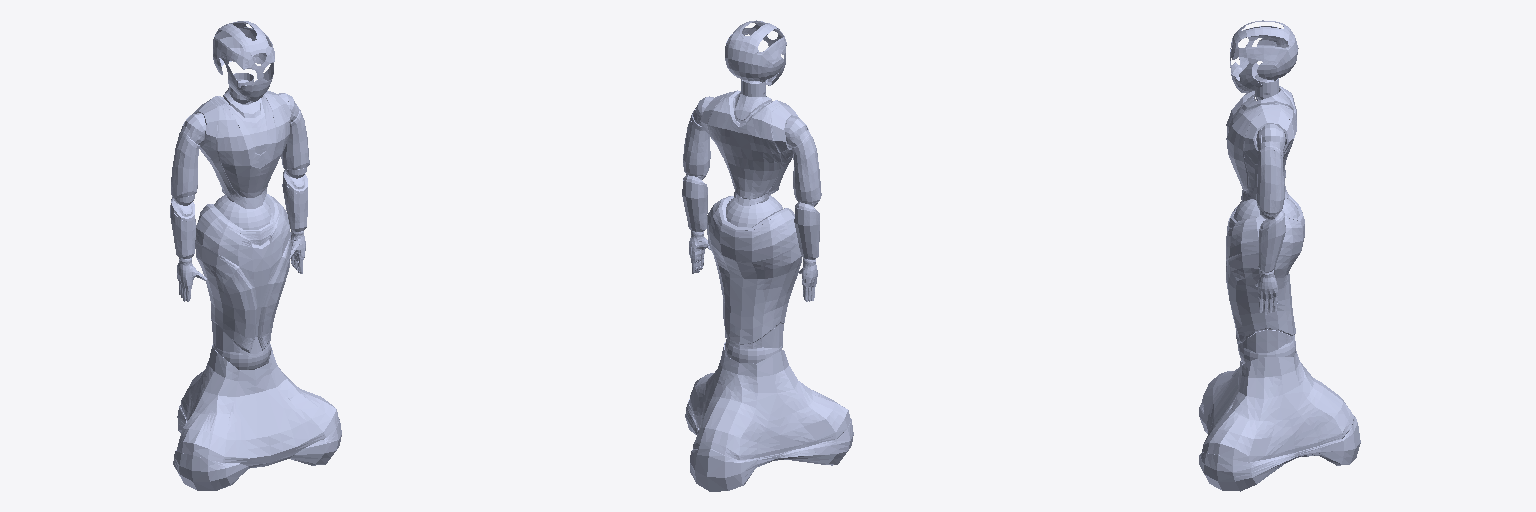
--- What the picture shows (computed from the rendered views, not written in the file) ---
3 views of the same robot in one strip: view 1: azimuth 30°, elevation 25°; view 2: azimuth 150°, elevation 25°; view 3: azimuth 270°, elevation 25° (orthographic).
Robot: xr1urdf — 51 links, 50 joints (49 continuous, 1 fixed); root link base_link; default pose: every joint at zero.
Links seen in each view (by area): view 1: base_link, Leg_Link, Back_Link, Head_Link, Right_Arm_Link, Right_Foream_Link, Left_Forearm_Link, Left_Arm_Link, Thigh_Link2, Knee_Link; view 2: base_link, Leg_Link, Back_Link, Head_Link, Right_Arm_Link, Left_Arm_Link, Left_Forearm_Link, Right_Foream_Link, Thigh_Link2, Knee_Link; view 3: base_link, Leg_Link, Back_Link, Head_Link, Left_Arm_Link, Left_Forearm_Link, Knee_Link, Thigh_Link2.
Link boxes in pixels (x1=…): base_link: x1=173, y1=342, x2=341, y2=490; Leg_Link: x1=195, y1=194, x2=291, y2=353; Back_Link: x1=192, y1=88, x2=291, y2=208; Head_Link: x1=213, y1=21, x2=274, y2=101; Right_Arm_Link: x1=171, y1=115, x2=205, y2=197; Right_Foream_Link: x1=170, y1=195, x2=195, y2=258; Left_Forearm_Link: x1=282, y1=168, x2=307, y2=231; Left_Arm_Link: x1=281, y1=101, x2=309, y2=169; Thigh_Link2: x1=214, y1=195, x2=271, y2=229; Knee_Link: x1=212, y1=322, x2=270, y2=356; base_link: x1=685, y1=339, x2=853, y2=491; Leg_Link: x1=707, y1=196, x2=801, y2=344; Back_Link: x1=700, y1=90, x2=798, y2=205; Head_Link: x1=725, y1=20, x2=786, y2=85; Right_Arm_Link: x1=785, y1=124, x2=821, y2=203; Left_Arm_Link: x1=683, y1=104, x2=710, y2=176; Left_Forearm_Link: x1=682, y1=173, x2=707, y2=231; Right_Foream_Link: x1=794, y1=201, x2=819, y2=258; Thigh_Link2: x1=726, y1=195, x2=782, y2=226; Knee_Link: x1=725, y1=324, x2=783, y2=348; base_link: x1=1199, y1=329, x2=1360, y2=491; Leg_Link: x1=1226, y1=195, x2=1304, y2=343; Back_Link: x1=1226, y1=86, x2=1296, y2=201; Head_Link: x1=1230, y1=20, x2=1298, y2=92; Left_Arm_Link: x1=1256, y1=128, x2=1285, y2=214; Left_Forearm_Link: x1=1258, y1=210, x2=1285, y2=272; Knee_Link: x1=1238, y1=330, x2=1294, y2=352; Thigh_Link2: x1=1234, y1=198, x2=1298, y2=221.
Bounding box of the posed robot: 0.5765 × 0.5061 × 1.5 m (x, y, z).
Meshes: 51 distinct files referenced, 51 mesh visuals loaded (51 binary STL).

URDF robot description (xr1urdf):
<robot
  name="xr1urdf">
  <link
    name="base_link">
    <inertial>
      <origin
        xyz="3.7967E-06 -0.014178 0.36294"
        rpy="0 0 0" />
      <mass
        value="36.19" />
      <inertia
        ixx="0.2837"
        ixy="6.6528E-07"
        ixz="1.7113E-06"
        iyy="0.2837"
        iyz="-9.4304E-05"
        izz="0.4608" />
    </inertial>
    <visual>
      <origin
        xyz="0 0 0"
        rpy="0 0 0" />
      <geometry>
        <mesh
          filename="package://xr1urdf/meshes/base_link.STL" />
      </geometry>
      <material
        name="">
        <color
          rgba="0.79216 0.81961 0.93333 1" />
      </material>
    </visual>
    <collision>
      <origin
        xyz="0 0 0"
        rpy="0 0 0" />
      <geometry>
        <mesh
          filename="package://xr1urdf/meshes/base_link.STL" />
      </geometry>
    </collision>
  </link>
  <link
    name="Knee_Link">
    <inertial>
      <origin
        xyz="-0.0018369 -0.052916 -5.4938E-05"
        rpy="0 0 0" />
      <mass
        value="8.175" />
      <inertia
        ixx="0.09013"
        ixy="7.826E-06"
        ixz="-7.279E-06"
        iyy="0.1181"
        iyz="6.324E-05"
        izz="0.118" />
    </inertial>
    <visual>
      <origin
        xyz="0 0 0"
        rpy="0 0 0" />
      <geometry>
        <mesh
          filename="package://xr1urdf/meshes/Knee_Link.STL" />
      </geometry>
      <material
        name="">
        <color
          rgba="0.79216 0.81961 0.93333 1" />
      </material>
    </visual>
    <collision>
      <origin
        xyz="0 0 0"
        rpy="0 0 0" />
      <geometry>
        <mesh
          filename="package://xr1urdf/meshes/Knee_Link.STL" />
      </geometry>
    </collision>
  </link>
  <joint
    name="Knee_X"
    type="continuous">
    <origin
      xyz="5.4938E-05 -0.013143 0.40405"
      rpy="-1.5708 0.033734 -1.5708" />
    <parent
      link="base_link" />
    <child
      link="Knee_Link" />
    <axis
      xyz="0 0 1" />
    <dynamics
      friction="0.1" />
  </joint>
  <link
    name="Leg_Link">
    <inertial>
      <origin
        xyz="0.0043847 -0.29449 -8.7888E-05"
        rpy="0 0 0" />
      <mass
        value="0.32293" />
      <inertia
        ixx="0.00058566"
        ixy="-2.0496E-05"
        ixz="3.9125E-09"
        iyy="7.173E-07"
        iyz="1.118E-07"
        izz="0.00058637" />
    </inertial>
    <visual>
      <origin
        xyz="0 0 0"
        rpy="0 0 0" />
      <geometry>
        <mesh
          filename="package://xr1urdf/meshes/Leg_Link.STL" />
      </geometry>
      <material
        name="">
        <color
          rgba="0.79216 0.81961 0.93333 1" />
      </material>
    </visual>
    <collision>
      <origin
        xyz="0 0 0"
        rpy="0 0 0" />
      <geometry>
        <mesh
          filename="package://xr1urdf/meshes/Leg_Link.STL" />
      </geometry>
    </collision>
  </link>
  <joint
    name="Leg_D"
    type="fixed">
    <origin
      xyz="0 0 0"
      rpy="0 0 6.9389E-18" />
    <parent
      link="Knee_Link" />
    <child
      link="Leg_Link" />
    <axis
      xyz="0 0 0" />
    <dynamics
      friction="0.1" />
  </joint>
  <link
    name="Thigh_Link">
    <inertial>
      <origin
        xyz="-0.013604 -0.00011257 0.42407"
        rpy="0 0 0" />
      <mass
        value="0.8847" />
      <inertia
        ixx="0.1604"
        ixy="0"
        ixz="0"
        iyy="0.1604"
        iyz="0"
        izz="0.1024" />
    </inertial>
    <visual>
      <origin
        xyz="0 0 0"
        rpy="0 0 0" />
      <geometry>
        <mesh
          filename="package://xr1urdf/meshes/Thigh_Link.STL" />
      </geometry>
      <material
        name="">
        <color
          rgba="0.79216 0.81961 0.93333 1" />
      </material>
    </visual>
    <collision>
      <origin
        xyz="0 0 0"
        rpy="0 0 0" />
      <geometry>
        <mesh
          filename="package://xr1urdf/meshes/Thigh_Link.STL" />
      </geometry>
    </collision>
  </link>
  <joint
    name="Back_Z"
    type="continuous">
    <origin
      xyz="0 0 0"
      rpy="1.5707 0 -0.0012161" />
    <parent
      link="Leg_Link" />
    <child
      link="Thigh_Link" />
    <axis
      xyz="-0.032512 -0.00013583 0.99947" />
    <dynamics
      friction="0.1" />
  </joint>
  <link
    name="Thigh_Link2">
    <inertial>
      <origin
        xyz="1.3517E-08 -1.7091E-08 -5.4937E-05"
        rpy="0 0 0" />
      <mass
        value="0.6035" />
      <inertia
        ixx="0.1537"
        ixy="0"
        ixz="0"
        iyy="0.1537"
        iyz="0"
        izz="0.0968" />
    </inertial>
    <visual>
      <origin
        xyz="0 0 0"
        rpy="0 0 0" />
      <geometry>
        <mesh
          filename="package://xr1urdf/meshes/Thigh_Link2.STL" />
      </geometry>
      <material
        name="">
        <color
          rgba="0.79216 0.81961 0.93333 1" />
      </material>
    </visual>
    <collision>
      <origin
        xyz="0 0 0"
        rpy="0 0 0" />
      <geometry>
        <mesh
          filename="package://xr1urdf/meshes/Thigh_Link2.STL" />
      </geometry>
    </collision>
  </link>
  <joint
    name="Back_X"
    type="continuous">
    <origin
      xyz="-0.013604 -5.763E-05 0.42407"
      rpy="-1.5707 -0.032068 -4.3595E-06" />
    <parent
      link="Thigh_Link" />
    <child
      link="Thigh_Link2" />
    <axis
      xyz="0 0 1" />
    <dynamics
      friction="0.1" />
  </joint>
  <link
    name="Back_Link">
    <inertial>
      <origin
        xyz="0.064471 3.1609E-05 0.017862"
        rpy="0 0 0" />
      <mass
        value="13.87" />
      <inertia
        ixx="0.09994"
        ixy="8.3465E-08"
        ixz="-0.00048977"
        iyy="0.1191"
        iyz="1.3363E-07"
        izz="0.1071" />
    </inertial>
    <visual>
      <origin
        xyz="0 0 0"
        rpy="0 0 0" />
      <geometry>
        <mesh
          filename="package://xr1urdf/meshes/Back_Link.STL" />
      </geometry>
      <material
        name="">
        <color
          rgba="0.79216 0.81961 0.93333 1" />
      </material>
    </visual>
    <collision>
      <origin
        xyz="0 0 0"
        rpy="0 0 0" />
      <geometry>
        <mesh
          filename="package://xr1urdf/meshes/Back_Link.STL" />
      </geometry>
    </collision>
  </link>
  <joint
    name="Back_Y"
    type="continuous">
    <origin
      xyz="-0.013865 -0.10565 -2.6926E-05"
      rpy="-1.5708 0 -1.5712" />
    <parent
      link="Thigh_Link2" />
    <child
      link="Back_Link" />
    <axis
      xyz="0 0 1" />
    <dynamics
      friction="0.1" />
  </joint>
  <link
    name="Neck_Link">
    <inertial>
      <origin
        xyz="-0.00011159 0.026435 0.35317"
        rpy="0 0 0" />
      <mass
        value="0.6805" />
      <inertia
        ixx="0.0009499"
        ixy="0"
        ixz="0"
        iyy="0.0009499"
        iyz="0"
        izz="0.000722" />
    </inertial>
    <visual>
      <origin
        xyz="0 0 0"
        rpy="0 0 0" />
      <geometry>
        <mesh
          filename="package://xr1urdf/meshes/Neck_Link.STL" />
      </geometry>
      <material
        name="">
        <color
          rgba="0.79216 0.81961 0.93333 1" />
      </material>
    </visual>
    <collision>
      <origin
        xyz="0 0 0"
        rpy="0 0 0" />
      <geometry>
        <mesh
          filename="package://xr1urdf/meshes/Neck_Link.STL" />
      </geometry>
    </collision>
  </link>
  <joint
    name="Neck_Z"
    type="continuous">
    <origin
      xyz="0 0 0"
      rpy="-1.45576756643559 0.00585422888906165 -1.5707963267949" />
    <parent
      link="Back_Link" />
    <child
      link="Neck_Link" />
    <axis
      xyz="-6.48829923723553E-05 0.103758479857577 0.994602520431073" />
  </joint>
  <link
    name="Neck_Link2">
    <inertial>
      <origin
        xyz="-0.00017003 -0.015117 -5.4883E-05"
        rpy="0 0 0" />
      <mass
        value="0.4417" />
      <inertia
        ixx="0.0003943"
        ixy="0"
        ixz="0"
        iyy="0.0003943"
        iyz="0"
        izz="0.000338" />
    </inertial>
    <visual>
      <origin
        xyz="0 0 0"
        rpy="0 0 0" />
      <geometry>
        <mesh
          filename="package://xr1urdf/meshes/Neck_Link2.STL" />
      </geometry>
      <material
        name="">
        <color
          rgba="0.79216 0.81961 0.93333 1" />
      </material>
    </visual>
    <collision>
      <origin
        xyz="0 0 0"
        rpy="0 0 0" />
      <geometry>
        <mesh
          filename="package://xr1urdf/meshes/Neck_Link2.STL" />
      </geometry>
    </collision>
  </link>
  <joint
    name="Neck_X"
    type="continuous">
    <origin
      xyz="-5.66462826414854E-05 0.0264756614309742 0.353526594203303"
      rpy="-1.570120763762 -0.103943394823006 -1.57668196274022" />
    <parent
      link="Neck_Link" />
    <child
      link="Neck_Link2" />
    <axis
      xyz="0 0 1" />
  </joint>
  <link
    name="Head_Link">
    <inertial>
      <origin
        xyz="0.078614 2.5049E-06 0.024556"
        rpy="0 0 0" />
      <mass
        value="1.661" />
      <inertia
        ixx="0.01505"
        ixy="0"
        ixz="0"
        iyy="0.01505"
        iyz="0"
        izz="0.01212" />
    </inertial>
    <visual>
      <origin
        xyz="0 0 0"
        rpy="0 0 0" />
      <geometry>
        <mesh
          filename="package://xr1urdf/meshes/Head_Link.STL" />
      </geometry>
      <material
        name="">
        <color
          rgba="0.79216 0.81961 0.93333 1" />
      </material>
    </visual>
    <collision>
      <origin
        xyz="0 0 0"
        rpy="0 0 0" />
      <geometry>
        <mesh
          filename="package://xr1urdf/meshes/Head_Link.STL" />
      </geometry>
    </collision>
  </link>
  <joint
    name="Head_Y"
    type="continuous">
    <origin
      xyz="-0.0148356484587829 -0.0504585752470172 0"
      rpy="-1.5707963267949 0 -1.58187971499664" />
    <parent
      link="Neck_Link2" />
    <child
      link="Head_Link" />
    <axis
      xyz="0 0 1" />
  </joint>
  <link
    name="Left_Shoulder_Link">
    <inertial>
      <origin
        xyz="-4.1264E-05 -0.00075572 -0.00067551"
        rpy="0 0 0" />
      <mass
        value="0.8107" />
      <inertia
        ixx="0.08447"
        ixy="0"
        ixz="0"
        iyy="0.08447"
        iyz="0"
        izz="0.06554" />
    </inertial>
    <visual>
      <origin
        xyz="0 0 0"
        rpy="0 0 0" />
      <geometry>
        <mesh
          filename="package://xr1urdf/meshes/Left_Shoulder_Link.STL" />
      </geometry>
      <material
        name="">
        <color
          rgba="0.79216 0.81961 0.93333 1" />
      </material>
    </visual>
    <collision>
      <origin
        xyz="0 0 0"
        rpy="0 0 0" />
      <geometry>
        <mesh
          filename="package://xr1urdf/meshes/Left_Shoulder_Link.STL" />
      </geometry>
    </collision>
  </link>
  <joint
    name="Left_Shoulder_X"
    type="continuous">
    <origin
      xyz="0.25847 -0.15106 0.001585"
      rpy="1.5708 -1.5708 0" />
    <parent
      link="Back_Link" />
    <child
      link="Left_Shoulder_Link" />
    <axis
      xyz="0 0 1" />
    <dynamics
      friction="0.1" />
  </joint>
  <link
    name="Left_Arm_Link">
    <inertial>
      <origin
        xyz="0.10178 0.03894 0.00067822"
        rpy="0 0 0" />
      <mass
        value="1.022" />
      <inertia
        ixx="0.05869"
        ixy="-5.2828E-05"
        ixz="-4.5659E-06"
        iyy="0.05866"
        iyz="-9.0249E-07"
        izz="0.01331" />
    </inertial>
    <visual>
      <origin
        xyz="0 0 0"
        rpy="0 0 0" />
      <geometry>
        <mesh
          filename="package://xr1urdf/meshes/Left_Arm_Link.STL" />
      </geometry>
      <material
        name="">
        <color
          rgba="0.79216 0.81961 0.93333 1" />
      </material>
    </visual>
    <collision>
      <origin
        xyz="0 0 0"
        rpy="0 0 0" />
      <geometry>
        <mesh
          filename="package://xr1urdf/meshes/Left_Arm_Link.STL" />
      </geometry>
    </collision>
  </link>
  <joint
    name="Left_Shoulder_Y"
    type="continuous">
    <origin
      xyz="0 0 0"
      rpy="1.5708 0 1.5708" />
    <parent
      link="Left_Shoulder_Link" />
    <child
      link="Left_Arm_Link" />
    <axis
      xyz="0 0 1" />
    <dynamics
      friction="0.1" />
  </joint>
  <link
    name="Left_Elbow_Link">
    <inertial>
      <origin
        xyz="7.2184E-05 5.6121E-05 -0.21867"
        rpy="0 0 0" />
      <mass
        value="0.7854" />
      <inertia
        ixx="0.02333"
        ixy="0"
        ixz="0"
        iyy="0.02333"
        iyz="0"
        izz="0.02" />
    </inertial>
    <visual>
      <origin
        xyz="0 0 0"
        rpy="0 0 0" />
      <geometry>
        <mesh
          filename="package://xr1urdf/meshes/Left_Elbow_Link.STL" />
      </geometry>
      <material
        name="">
        <color
          rgba="0.79216 0.81961 0.93333 1" />
      </material>
    </visual>
    <collision>
      <origin
        xyz="0 0 0"
        rpy="0 0 0" />
      <geometry>
        <mesh
          filename="package://xr1urdf/meshes/Left_Elbow_Link.STL" />
      </geometry>
    </collision>
  </link>
  <joint
    name="Left_Elbow_Z"
    type="continuous">
    <origin
      xyz="0 0.051343 0.0030704"
      rpy="-1.5708 0 1.5708" />
    <parent
      link="Left_Arm_Link" />
    <child
      link="Left_Elbow_Link" />
    <axis
      xyz="0 0 1" />
  </joint>
  <link
    name="Left_Forearm_Link">
    <inertial>
      <origin
        xyz="-0.004929 0.04719 0.00056402"
        rpy="0 0 0" />
      <mass
        value="0.6233" />
      <inertia
        ixx="0.01023"
        ixy="-3.6841E-06"
        ixz="3.8131E-08"
        iyy="0.01019"
        iyz="-5.0227E-07"
        izz="0.002818" />
    </inertial>
    <visual>
      <origin
        xyz="0 0 0"
        rpy="0 0 0" />
      <geometry>
        <mesh
          filename="package://xr1urdf/meshes/Left_Forearm_Link.STL" />
      </geometry>
      <material
        name="">
        <color
          rgba="0.79216 0.81961 0.93333 1" />
      </material>
    </visual>
    <collision>
      <origin
        xyz="0 0 0"
        rpy="0 0 0" />
      <geometry>
        <mesh
          filename="package://xr1urdf/meshes/Left_Forearm_Link.STL" />
      </geometry>
    </collision>
  </link>
  <joint
    name="Left_Elbow_X"
    type="continuous">
    <origin
      xyz="7.21835432308526E-05 5.61241489814741E-05 -0.218666930883292"
      rpy="-1.5707963267949 0 -1.5707963267949" />
    <parent
      link="Left_Elbow_Link" />
    <child
      link="Left_Forearm_Link" />
    <axis
      xyz="0 0 1" />
  </joint>
  <link
    name="Left_Wrist_Link">
    <inertial>
      <origin
        xyz="0.0089917 -0.0016706 0.19203"
        rpy="0 0 0" />
      <mass
        value="0.5487" />
      <inertia
        ixx="0.01411"
        ixy="0"
        ixz="0"
        iyy="0.01411"
        iyz="0"
        izz="0.02687" />
    </inertial>
    <visual>
      <origin
        xyz="0 0 0"
        rpy="0 0 0" />
      <geometry>
        <mesh
          filename="package://xr1urdf/meshes/Left_Wrist_Link.STL" />
      </geometry>
      <material
        name="">
        <color
          rgba="0.79216 0.81961 0.93333 1" />
      </material>
    </visual>
    <collision>
      <origin
        xyz="0 0 0"
        rpy="0 0 0" />
      <geometry>
        <mesh
          filename="package://xr1urdf/meshes/Left_Wrist_Link.STL" />
      </geometry>
    </collision>
  </link>
  <joint
    name="Left_Wrist_Z"
    type="continuous">
    <origin
      xyz="0 0 0"
      rpy="-1.5707963267949 0 0" />
    <parent
      link="Left_Forearm_Link" />
    <child
      link="Left_Wrist_Link" />
    <axis
      xyz="0 0 -1" />
  </joint>
  <link
    name="Left_Wrist_Link2">
    <inertial>
      <origin
        xyz="0.012461 0.0028972 -0.08048"
        rpy="0 0 0" />
      <mass
        value="0.5362" />
      <inertia
        ixx="0.00512"
        ixy="0"
        ixz="0"
        iyy="0.00512"
        iyz="0"
        izz="0.00512" />
    </inertial>
    <visual>
      <origin
        xyz="-0.011375266 0 0.080476412"
        rpy="0 0 0" />
      <geometry>
        <mesh
          filename="package://xr1urdf/meshes/Left_Wrist_Link2.STL" />
      </geometry>
      <material
        name="">
        <color
          rgba="0.79216 0.81961 0.93333 1" />
      </material>
    </visual>
    <collision>
      <origin
        xyz="0 0 0"
        rpy="0 0 0" />
      <geometry>
        <mesh
          filename="package://xr1urdf/meshes/Left_Wrist_Link2.STL" />
      </geometry>
    </collision>
  </link>
  <joint
    name="Left_Wrist_Y"
    type="continuous">
    <origin
      xyz="0.00784287714185615 0.000519681604099265 0.219279727935792"
      rpy="-1.5707963267949 0 -1.5707963267949" />
    <parent
      link="Left_Wrist_Link" />
    <child
      link="Left_Wrist_Link2" />
    <axis
      xyz="0 0 1" />
  </joint>
  <link
    name="Left_Hand_Link">
    <inertial>
      <origin
        xyz="0.031243 0.080045 0.012473"
        rpy="0 0 0" />
      <mass
        value="0.1449" />
      <inertia
        ixx="0.006855"
        ixy="0"
        ixz="0"
        iyy="0.005574"
        iyz="0"
        izz="0.00377" />
    </inertial>
    <visual>
      <origin
        xyz="0 -0.080476412 -0.011375266"
        rpy="0 0 0" />
      <geometry>
        <mesh
          filename="package://xr1urdf/meshes/Left_Hand_Link.STL" />
      </geometry>
      <material
        name="">
        <color
          rgba="0.79216 0.81961 0.93333 1" />
      </material>
    </visual>
    <collision>
      <origin
        xyz="0 0 0"
        rpy="0 0 0" />
      <geometry>
        <mesh
          filename="package://xr1urdf/meshes/Left_Hand_Link.STL" />
      </geometry>
    </collision>
  </link>
  <joint
    name="Left_Wrist_X"
    type="continuous">
    <origin
      xyz="0 0 0"
      rpy="-1.5707963267949 0 -1.5707963267949" />
    <parent
      link="Left_Wrist_Link2" />
    <child
      link="Left_Hand_Link" />
    <axis
      xyz="0 0 1" />
  </joint>
  <link
    name="Left_1_1_Link">
    <inertial>
      <origin
        xyz="-0.002186 -0.0013399 -0.00013841"
        rpy="0 0 0" />
      <mass
        value="0.06844" />
      <inertia
        ixx="0.001031"
        ixy="-1.6265E-08"
        ixz="-1.6801E-09"
        iyy="0.001031"
        iyz="-1.0299E-09"
        izz="0.001501" />
    </inertial>
    <visual>
      <origin
        xyz="0 0 0"
        rpy="0 0 0" />
      <geometry>
        <mesh
          filename="package://xr1urdf/meshes/Left_1_1_Link.STL" />
      </geometry>
      <material
        name="">
        <color
          rgba="0.79216 0.81961 0.93333 1" />
      </material>
    </visual>
    <collision>
      <origin
        xyz="0 0 0"
        rpy="0 0 0" />
      <geometry>
        <mesh
          filename="package://xr1urdf/meshes/Left_1_1_Link.STL" />
      </geometry>
    </collision>
  </link>
  <joint
    name="Left_1_1_Joint"
    type="continuous">
    <origin
      xyz="0.0463873711048263 -0.0227514450525238 -0.0270481463075324"
      rpy="0 -1.00156316575 1.94835151482426" />
    <parent
      link="Left_Hand_Link" />
    <child
      link="Left_1_1_Link" />
    <axis
      xyz="0 0 1" />
  </joint>
  <link
    name="Left_1_2_Link">
    <inertial>
      <origin
        xyz="-0.0042083 -0.001782 -1.4605E-05"
        rpy="0 0 0" />
      <mass
        value="0.01812" />
      <inertia
        ixx="0.0005327"
        ixy="-1.8137E-08"
        ixz="-1.4873E-10"
        iyy="0.0007867"
        iyz="-6.2976E-11"
        izz="0.0005335" />
    </inertial>
    <visual>
      <origin
        xyz="0 0 0"
        rpy="0 0 0" />
      <geometry>
        <mesh
          filename="package://xr1urdf/meshes/Left_1_2_Link.STL" />
      </geometry>
      <material
        name="">
        <color
          rgba="0.79216 0.81961 0.93333 1" />
      </material>
    </visual>
    <collision>
      <origin
        xyz="0 0 0"
        rpy="0 0 0" />
      <geometry>
        <mesh
          filename="package://xr1urdf/meshes/Left_1_2_Link.STL" />
      </geometry>
    </collision>
  </link>
  <joint
    name="Left_1_2_Joint"
    type="continuous">
    <origin
      xyz="-0.0145863076944239 -0.00868903405537458 0"
      rpy="-6.90671092873486E-07 4.78610937881837E-07 -4.41951919144599E-07" />
    <parent
      link="Left_1_1_Link" />
    <child
      link="Left_1_2_Link" />
    <axis
      xyz="0 0 1" />
  </joint>
  <link
    name="Left_2_1_Link">
    <inertial>
      <origin
        xyz="6.0375E-05 -0.004442 -8.9343E-05"
        rpy="0 0 0" />
      <mass
        value="0.05105" />
      <inertia
        ixx="0.0017"
        ixy="1.0587E-09"
        ixz="2.1295E-11"
        iyy="0.0017"
        iyz="-1.5667E-09"
        izz="0.002498" />
    </inertial>
    <visual>
      <origin
        xyz="0 0 0"
        rpy="0 0 0" />
      <geometry>
        <mesh
          filename="package://xr1urdf/meshes/Left_2_1_Link.STL" />
      </geometry>
      <material
        name="">
        <color
          rgba="0.79216 0.81961 0.93333 1" />
      </material>
    </visual>
    <collision>
      <origin
        xyz="0 0 0"
        rpy="0 0 0" />
      <geometry>
        <mesh
          filename="package://xr1urdf/meshes/Left_2_1_Link.STL" />
      </geometry>
    </collision>
  </link>
  <joint
    name="Left_2_1_Joint"
    type="continuous">
    <origin
      xyz="0.07421799091684 -0.0211750333284337 -0.000927044928134585"
      rpy="1.5707963267949 -1.5707963267949 0" />
    <parent
      link="Left_Hand_Link" />
    <child
      link="Left_2_1_Link" />
    <axis
      xyz="0 0 1" />
  </joint>
  <link
    name="Left_2_2_Link">
    <inertial>
      <origin
        xyz="0.0004717 -0.0059497 -0.00010746"
        rpy="0 0 0" />
      <mass
        value="0.01234" />
      <inertia
        ixx="0.0008295"
        ixy="5.6493E-09"
        ixz="1.0204E-10"
        iyy="0.0008295"
        iyz="-1.287E-09"
        izz="0.001208" />
    </inertial>
    <visual>
      <origin
        xyz="0 0 0"
        rpy="0 0 0" />
      <geometry>
        <mesh
          filename="package://xr1urdf/meshes/Left_2_2_Link.STL" />
      </geometry>
      <material
        name="">
        <color
          rgba="0.79216 0.81961 0.93333 1" />
      </material>
    </visual>
    <collision>
      <origin
        xyz="0 0 0"
        rpy="0 0 0" />
      <geometry>
        <mesh
          filename="package://xr1urdf/meshes/Left_2_2_Link.STL" />
      </geometry>
    </collision>
  </link>
  <joint
    name="Left_2_2_Joint"
    type="continuous">
    <origin
      xyz="0 -0.0180361175537143 0"
      rpy="0 0 0" />
    <parent
      link="Left_2_1_Link" />
    <child
      link="Left_2_2_Link" />
    <axis
      xyz="0 0 1" />
  </joint>
  <link
    name="Left_2_3_Link">
    <inertial>
      <origin
        xyz="0.00082688 -0.0043373 -0.00010313"
        rpy="0 0 0" />
      <mass
        value="0.006588" />
      <inertia
        ixx="0.0002138"
        ixy="7.3617E-09"
        ixz="1.7504E-10"
        iyy="0.0003146"
        iyz="-9.1816E-10"
        izz="0.0002119" />
    </inertial>
    <visual>
      <origin
        xyz="0 0 0"
        rpy="0 0 0" />
      <geometry>
        <mesh
          filename="package://xr1urdf/meshes/Left_2_3_Link.STL" />
      </geometry>
      <material
        name="">
        <color
          rgba="0.79216 0.81961 0.93333 1" />
      </material>
    </visual>
    <collision>
      <origin
        xyz="0 0 0"
        rpy="0 0 0" />
      <geometry>
        <mesh
          filename="package://xr1urdf/meshes/Left_2_3_Link.STL" />
      </geometry>
    </collision>
  </link>
  <joint
    name="Left_2_3_Joint"
    type="continuous">
    <origin
      xyz="0 -0.0220256805419884 0"
      rpy="0 0 0" />
    <parent
      link="Left_2_2_Link" />
    <child
      link="Left_2_3_Link" />
    <axis
      xyz="0 0 1" />
  </joint>
  <link
    name="Left_3_1_Link">
    <inertial>
      <origin
        xyz="0.00013722 -0.0054219 1.8135E-05"
        rpy="0 0 0" />
      <mass
        value="0.05197" />
      <inertia
        ixx="0.001723"
        ixy="3.2178E-09"
        ixz="-1.0762E-11"
        iyy="0.001723"
        iyz="4.2522E-10"
        izz="0.002543" />
    </inertial>
    <visual>
      <origin
        xyz="0 0 0"
        rpy="0 0 0" />
      <geometry>
        <mesh
          filename="package://xr1urdf/meshes/Left_3_1_Link.STL" />
      </geometry>
      <material
        name="">
        <color
          rgba="0.79216 0.81961 0.93333 1" />
      </material>
    </visual>
    <collision>
      <origin
        xyz="0 0 0"
        rpy="0 0 0" />
      <geometry>
        <mesh
          filename="package://xr1urdf/meshes/Left_3_1_Link.STL" />
      </geometry>
    </collision>
  </link>
  <joint
    name="Left_3_1_Joint"
    type="continuous">
    <origin
      xyz="0.0764901009021922 -0.00561489331473879 0.00175480169051168"
      rpy="1.5707963267949 -1.5707963267949 0" />
    <parent
      link="Left_Hand_Link" />
    <child
      link="Left_3_1_Link" />
    <axis
      xyz="0 0 1" />
  </joint>
  <link
    name="Left_3_2_Link">
    <inertial>
      <origin
        xyz="0.00056785 -0.0061714 1.9798E-05"
        rpy="0 0 0" />
      <mass
        value="0.01299" />
      <inertia
        ixx="0.0008611"
        ixy="7.0543E-09"
        ixz="-2.2631E-11"
        iyy="0.0008611"
        iyz="2.4596E-10"
        izz="0.001271" />
    </inertial>
    <visual>
      <origin
        xyz="0 0 0"
        rpy="0 0 0" />
      <geometry>
        <mesh
          filename="package://xr1urdf/meshes/Left_3_2_Link.STL" />
      </geometry>
      <material
        name="">
        <color
          rgba="0.79216 0.81961 0.93333 1" />
      </material>
    </visual>
    <collision>
      <origin
        xyz="0 0 0"
        rpy="0 0 0" />
      <geometry>
        <mesh
          filename="package://xr1urdf/meshes/Left_3_2_Link.STL" />
      </geometry>
    </collision>
  </link>
  <joint
    name="Left_3_2_Joint"
    type="continuous">
    <origin
      xyz="0 -0.0205278778076161 0"
      rpy="0 0 0" />
    <parent
      link="Left_3_1_Link" />
    <child
      link="Left_3_2_Link" />
    <axis
      xyz="0 0 1" />
  </joint>
  <link
    name="Left_3_3_Link">
    <inertial>
      <origin
        xyz="0.00092117 -0.0045548 2.1672E-05"
        rpy="0 0 0" />
      <mass
        value="0.006329" />
      <inertia
        ixx="0.0002073"
        ixy="8.6123E-09"
        ixz="-4.0979E-11"
        iyy="0.0003018"
        iyz="2.0262E-10"
        izz="0.0002056" />
    </inertial>
    <visual>
      <origin
        xyz="0 0 0"
        rpy="0 0 0" />
      <geometry>
        <mesh
          filename="package://xr1urdf/meshes/Left_3_3_Link.STL" />
      </geometry>
      <material
        name="">
        <color
          rgba="0.79216 0.81961 0.93333 1" />
      </material>
    </visual>
    <collision>
      <origin
        xyz="0 0 0"
        rpy="0 0 0" />
      <geometry>
        <mesh
          filename="package://xr1urdf/meshes/Left_3_3_Link.STL" />
      </geometry>
    </collision>
  </link>
  <joint
    name="Left_3_3_Joint"
    type="continuous">
    <origin
      xyz="0 -0.0220256042480496 0"
      rpy="0 0 0" />
    <parent
      link="Left_3_2_Link" />
    <child
      link="Left_3_3_Link" />
    <axis
      xyz="0 0 1" />
  </joint>
  <link
    name="Left_4_1_Link">
    <inertial>
      <origin
        xyz="8.9301E-05 -0.0047682 6.5533E-05"
        rpy="0 0 0" />
      <mass
        value="0.04255" />
      <inertia
        ixx="0.001576"
        ixy="1.6758E-09"
        ixz="-2.3031E-11"
        iyy="0.001576"
        iyz="1.2297E-09"
        izz="0.002552" />
    </inertial>
    <visual>
      <origin
        xyz="0 0 0"
        rpy="0 0 0" />
      <geometry>
        <mesh
          filename="package://xr1urdf/meshes/Left_4_1_Link.STL" />
      </geometry>
      <material
        name="">
        <color
          rgba="0.79216 0.81961 0.93333 1" />
      </material>
    </visual>
    <collision>
      <origin
        xyz="0 0 0"
        rpy="0 0 0" />
      <geometry>
        <mesh
          filename="package://xr1urdf/meshes/Left_4_1_Link.STL" />
      </geometry>
    </collision>
  </link>
  <joint
    name="Left_4_1_Joint"
    type="continuous">
    <origin
      xyz="0.073528980296718 0.00968487170586999 0.000963213860921908"
      rpy="1.5707963267949 -1.5707963267949 0" />
    <parent
      link="Left_Hand_Link" />
    <child
      link="Left_4_1_Link" />
    <axis
      xyz="0 0 1" />
  </joint>
  <link
    name="Left_4_2_Link">
    <inertial>
      <origin
        xyz="0.00050562 -0.0052511 7.4747E-05"
        rpy="0 0 0" />
      <mass
        value="0.01146" />
      <inertia
        ixx="0.0007867"
        ixy="5.3445E-09"
        ixz="-7.6075E-11"
        iyy="0.0007867"
        iyz="7.9006E-10"
        izz="0.001122" />
    </inertial>
    <visual>
      <origin
        xyz="0 0 0"
        rpy="0 0 0" />
      <geometry>
        <mesh
          filename="package://xr1urdf/meshes/Left_4_2_Link.STL" />
      </geometry>
      <material
        name="">
        <color
          rgba="0.79216 0.81961 0.93333 1" />
      </material>
    </visual>
    <collision>
      <origin
        xyz="0 0 0"
        rpy="0 0 0" />
      <geometry>
        <mesh
          filename="package://xr1urdf/meshes/Left_4_2_Link.STL" />
      </geometry>
    </collision>
  </link>
  <joint
    name="Left_4_2_Joint"
    type="continuous">
    <origin
      xyz="0 -0.0203540802001998 0"
      rpy="0 0 0" />
    <parent
      link="Left_4_1_Link" />
    <child
      link="Left_4_2_Link" />
    <axis
      xyz="0 0 1" />
  </joint>
  <link
    name="Left_4_3_Link">
    <inertial>
      <origin
        xyz="0.00086014 -0.0036522 7.5558E-05"
        rpy="0 0 0" />
      <mass
        value="0.00662" />
      <inertia
        ixx="0.0002145"
        ixy="6.4482E-09"
        ixz="-1.334E-10"
        iyy="0.0003161"
        iyz="5.6641E-10"
        izz="0.0002127" />
    </inertial>
    <visual>
      <origin
        xyz="0 0 0"
        rpy="0 0 0" />
      <geometry>
        <mesh
          filename="package://xr1urdf/meshes/Left_4_3_Link.STL" />
      </geometry>
      <material
        name="">
        <color
          rgba="0.79216 0.81961 0.93333 1" />
      </material>
    </visual>
    <collision>
      <origin
        xyz="0 0 0"
        rpy="0 0 0" />
      <geometry>
        <mesh
          filename="package://xr1urdf/meshes/Left_4_3_Link.STL" />
      </geometry>
    </collision>
  </link>
  <joint
    name="Left_4_3_Link"
    type="continuous">
    <origin
      xyz="0 -0.0220256805419927 0"
      rpy="0 0 0" />
    <parent
      link="Left_4_2_Link" />
    <child
      link="Left_4_3_Link" />
    <axis
      xyz="0 0 1" />
  </joint>
  <link
    name="Left_5_1_Link">
    <inertial>
      <origin
        xyz="-0.00046586 -0.0042115 8.9979E-05"
        rpy="0 0 0" />
      <mass
        value="0.0465" />
      <inertia
        ixx="0.001585"
        ixy="-6.979E-09"
        ixz="1.4911E-10"
        iyy="0.001585"
        iyz="1.3479E-09"
        izz="0.002229" />
    </inertial>
    <visual>
      <origin
        xyz="0 0 0"
        rpy="0 0 0" />
      <geometry>
        <mesh
          filename="package://xr1urdf/meshes/Left_5_1_Link.STL" />
      </geometry>
      <material
        name="">
        <color
          rgba="0.79216 0.81961 0.93333 1" />
      </material>
    </visual>
    <collision>
      <origin
        xyz="0 0 0"
        rpy="0 0 0" />
      <geometry>
        <mesh
          filename="package://xr1urdf/meshes/Left_5_1_Link.STL" />
      </geometry>
    </collision>
  </link>
  <joint
    name="Left_5_1_Joint"
    type="continuous">
    <origin
      xyz="0.0702912178455524 0.0248770065332455 0.00038803380721289"
      rpy="1.5707963267949 -1.5707963267949 0" />
    <parent
      link="Left_Hand_Link" />
    <child
      link="Left_5_1_Link" />
    <axis
      xyz="0 0 1" />
  </joint>
  <link
    name="Left_5_2_Link">
    <inertial>
      <origin
        xyz="-0.00012673 -0.0053846 9.956E-05"
        rpy="0 0 0" />
      <mass
        value="0.01531" />
      <inertia
        ixx="0.0006332"
        ixy="-1.3738E-09"
        ixz="2.5402E-11"
        iyy="0.0006332"
        iyz="1.0791E-09"
        izz="0.001025" />
    </inertial>
    <visual>
      <origin
        xyz="0 0 0"
        rpy="0 0 0" />
      <geometry>
        <mesh
          filename="package://xr1urdf/meshes/Left_5_2_Link.STL" />
      </geometry>
      <material
        name="">
        <color
          rgba="0.79216 0.81961 0.93333 1" />
      </material>
    </visual>
    <collision>
      <origin
        xyz="0 0 0"
        rpy="0 0 0" />
      <geometry>
        <mesh
          filename="package://xr1urdf/meshes/Left_5_2_Link.STL" />
      </geometry>
    </collision>
  </link>
  <joint
    name="Left_5_2_Joint"
    type="continuous">
    <origin
      xyz="0 -0.0182607269287086 0"
      rpy="0 0 0" />
    <parent
      link="Left_5_1_Link" />
    <child
      link="Left_5_2_Link" />
    <axis
      xyz="0 0 1" />
  </joint>
  <link
    name="Left_5_3_Link">
    <inertial>
      <origin
        xyz="0.00024002 -0.0037831 9.9892E-05"
        rpy="0 0 0" />
      <mass
        value="0.007844" />
      <inertia
        ixx="0.0003171"
        ixy="1.8637E-09"
        ixz="-4.9209E-11"
        iyy="0.0005152"
        iyz="7.7571E-10"
        izz="0.0003161" />
    </inertial>
    <visual>
      <origin
        xyz="0 0 0"
        rpy="0 0 0" />
      <geometry>
        <mesh
          filename="package://xr1urdf/meshes/Left_5_3_Link.STL" />
      </geometry>
      <material
        name="">
        <color
          rgba="0.79216 0.81961 0.93333 1" />
      </material>
    </visual>
    <collision>
      <origin
        xyz="0 0 0"
        rpy="0 0 0" />
      <geometry>
        <mesh
          filename="package://xr1urdf/meshes/Left_5_3_Link.STL" />
      </geometry>
    </collision>
  </link>
  <joint
    name="Left_5_3_Joint"
    type="continuous">
    <origin
      xyz="0 -0.0220256805419934 0"
      rpy="0 0 0" />
    <parent
      link="Left_5_2_Link" />
    <child
      link="Left_5_3_Link" />
    <axis
      xyz="0 0 1" />
  </joint>
  <link
    name="Right_Shoulder_Link">
    <inertial>
      <origin
        xyz="-4.1264E-05 -0.00075525 0.00067603"
        rpy="0 0 0" />
      <mass
        value="0.8107" />
      <inertia
        ixx="0.08441"
        ixy="0"
        ixz="0"
        iyy="0.08441"
        iyz="0"
        izz="0.06554" />
    </inertial>
    <visual>
      <origin
        xyz="0 0 0"
        rpy="0 0 0" />
      <geometry>
        <mesh
          filename="package://xr1urdf/meshes/Right_Shoulder_Link.STL" />
      </geometry>
      <material
        name="">
        <color
          rgba="0.79216 0.81961 0.93333 1" />
      </material>
    </visual>
    <collision>
      <origin
        xyz="0 0 0"
        rpy="0 0 0" />
      <geometry>
        <mesh
          filename="package://xr1urdf/meshes/Right_Shoulder_Link.STL" />
      </geometry>
    </collision>
  </link>
  <joint
    name="Right_Shoulder_X"
    type="continuous">
    <origin
      xyz="0.25847 0.15112 0.001585"
      rpy="1.5708 -1.5708 0" />
    <parent
      link="Back_Link" />
    <child
      link="Right_Shoulder_Link" />
    <axis
      xyz="0 0.00069016 1" />
    <dynamics
      friction="0.1" />
  </joint>
  <link
    name="Right_Arm_Link">
    <inertial>
      <origin
        xyz="0.10162 -0.03901 0.0051548"
        rpy="0 0 0" />
      <mass
        value="1.022" />
      <inertia
        ixx="0.05869"
        ixy="5.2856E-05"
        ixz="-1.2809E-05"
        iyy="0.05866"
        iyz="3.2344E-06"
        izz="0.01331" />
    </inertial>
    <visual>
      <origin
        xyz="0 0 0"
        rpy="0 0 0" />
      <geometry>
        <mesh
          filename="package://xr1urdf/meshes/Right_Arm_Link.STL" />
      </geometry>
      <material
        name="">
        <color
          rgba="0.79216 0.81961 0.93333 1" />
      </material>
    </visual>
    <collision>
      <origin
        xyz="0 0 0"
        rpy="0 0 0" />
      <geometry>
        <mesh
          filename="package://xr1urdf/meshes/Right_Arm_Link.STL" />
      </geometry>
    </collision>
  </link>
  <joint
    name="Right_Shoulder_Y"
    type="continuous">
    <origin
      xyz="0 0 0"
      rpy="1.5708 -1.3369E-06 1.6148" />
    <parent
      link="Right_Shoulder_Link" />
    <child
      link="Right_Arm_Link" />
    <axis
      xyz="-0.043991 3.039E-05 0.99903" />
    <dynamics
      friction="0.1" />
  </joint>
  <link
    name="Right_Elbow_Link">
    <inertial>
      <origin
        xyz="0.00023182 -2.5152E-05 -0.21867"
        rpy="0 0 0" />
      <mass
        value="0.7854" />
      <inertia
        ixx="0.02333"
        ixy="0"
        ixz="0"
        iyy="0.02333"
        iyz="0"
        izz="0.02" />
    </inertial>
    <visual>
      <origin
        xyz="0 0 0"
        rpy="0 0 0" />
      <geometry>
        <mesh
          filename="package://xr1urdf/meshes/Right_Elbow_Link.STL" />
      </geometry>
      <material
        name="">
        <color
          rgba="0.79216 0.81961 0.93333 1" />
      </material>
    </visual>
    <collision>
      <origin
        xyz="0 0 0"
        rpy="0 0 0" />
      <geometry>
        <mesh
          filename="package://xr1urdf/meshes/Right_Elbow_Link.STL" />
      </geometry>
    </collision>
  </link>
  <joint
    name="Right_Elbow_Z"
    type="continuous">
    <origin
      xyz="-0.00016706 -0.051647 0.0029862"
      rpy="-1.6148 0 1.5701" />
    <parent
      link="Right_Arm_Link" />
    <child
      link="Right_Elbow_Link" />
    <axis
      xyz="0 0 1" />
  </joint>
  <link
    name="Right_Foream_Link">
    <inertial>
      <origin
        xyz="-0.0049256 0.047194 -0.00018363"
        rpy="0 0 0" />
      <mass
        value="0.6233" />
      <inertia
        ixx="0.01023"
        ixy="-3.6866E-06"
        ixz="-7.2573E-08"
        iyy="0.01019"
        iyz="-1.7964E-06"
        izz="0.002818" />
    </inertial>
    <visual>
      <origin
        xyz="0 0 0"
        rpy="0 0 0" />
      <geometry>
        <mesh
          filename="package://xr1urdf/meshes/Right_Foream_Link.STL" />
      </geometry>
      <material
        name="">
        <color
          rgba="0.79216 0.81961 0.93333 1" />
      </material>
    </visual>
    <collision>
      <origin
        xyz="0 0 0"
        rpy="0 0 0" />
      <geometry>
        <mesh
          filename="package://xr1urdf/meshes/Right_Foream_Link.STL" />
      </geometry>
    </collision>
  </link>
  <joint
    name="Right_Elbow_X"
    type="continuous">
    <origin
      xyz="0.00023182210159195 -2.51481413512666E-05 -0.218666825669526"
      rpy="-1.57947630138636 0 -1.5767307988545" />
    <parent
      link="Right_Elbow_Link" />
    <child
      link="Right_Foream_Link" />
    <axis
      xyz="-0.00593443722633651 -0.0086797127543666 0.99994472099277" />
  </joint>
  <link
    name="Right_Wrist_Link">
    <inertial>
      <origin
        xyz="0.0090015 0.0016172 0.19203"
        rpy="0 0 0" />
      <mass
        value="0.5484" />
      <inertia
        ixx="0.01411"
        ixy="0"
        ixz="0"
        iyy="0.01411"
        iyz="0"
        izz="0.02685" />
    </inertial>
    <visual>
      <origin
        xyz="0 0 0"
        rpy="0 0 0" />
      <geometry>
        <mesh
          filename="package://xr1urdf/meshes/Right_Wrist_Link.STL" />
      </geometry>
      <material
        name="">
        <color
          rgba="0.79216 0.81961 0.93333 1" />
      </material>
    </visual>
    <collision>
      <origin
        xyz="0 0 0"
        rpy="0 0 0" />
      <geometry>
        <mesh
          filename="package://xr1urdf/meshes/Right_Wrist_Link.STL" />
      </geometry>
    </collision>
  </link>
  <joint
    name="Right_Wrist_Z"
    type="continuous">
    <origin
      xyz="0 0 0"
      rpy="-1.56211635220343 -8.67361737988404E-19 0" />
    <parent
      link="Right_Foream_Link" />
    <child
      link="Right_Wrist_Link" />
    <axis
      xyz="0 0 -1" />
  </joint>
  <link
    name="Right_Wrist_Link2">
    <inertial>
      <origin
        xyz="-1.7158E-08 -7.9833E-09 1.7109E-08"
        rpy="0 0 0" />
      <mass
        value="0.5362" />
      <inertia
        ixx="0.00512"
        ixy="0"
        ixz="0"
        iyy="0.00512"
        iyz="0"
        izz="0.00512" />
    </inertial>
    <visual>
      <origin
        xyz="0 0 0"
        rpy="0 0 0" />
      <geometry>
        <mesh
          filename="package://xr1urdf/meshes/Right_Wrist_Link2.STL" />
      </geometry>
      <material
        name="">
        <color
          rgba="0.79216 0.81961 0.93333 1" />
      </material>
    </visual>
    <collision>
      <origin
        xyz="0 0 0"
        rpy="0 0 0" />
      <geometry>
        <mesh
          filename="package://xr1urdf/meshes/Right_Wrist_Link2.STL" />
      </geometry>
    </collision>
  </link>
  <joint
    name="Right_Wrist_Y"
    type="continuous">
    <origin
      xyz="0.00784287714185615 0.000519681604099265 0.219279727935792"
      rpy="-1.5707963267949 0 -1.5767307988545" />
    <parent
      link="Right_Wrist_Link" />
    <child
      link="Right_Wrist_Link2" />
    <axis
      xyz="0 0 1" />
  </joint>
  <link
    name="Right_Hand_Link">
    <inertial>
      <origin
        xyz="0.03414 -0.00043423 9.7572E-05"
        rpy="0 0 0" />
      <mass
        value="0.1449" />
      <inertia
        ixx="0.006892"
        ixy="0"
        ixz="0"
        iyy="0.005566"
        iyz="0"
        izz="0.003742" />
    </inertial>
    <visual>
      <origin
        xyz="0 0 0"
        rpy="0 0 0" />
      <geometry>
        <mesh
          filename="package://xr1urdf/meshes/Right_Hand_Link.STL" />
      </geometry>
      <material
        name="">
        <color
          rgba="0.79216 0.81961 0.93333 1" />
      </material>
    </visual>
    <collision>
      <origin
        xyz="0 0 0"
        rpy="0 0 0" />
      <geometry>
        <mesh
          filename="package://xr1urdf/meshes/Right_Hand_Link.STL" />
      </geometry>
    </collision>
  </link>
  <joint
    name="Right_Wrist_X"
    type="continuous">
    <origin
      xyz="0 0 0"
      rpy="-1.5707963267949 1.89103620342991E-16 -1.5707963267949" />
    <parent
      link="Right_Wrist_Link2" />
    <child
      link="Right_Hand_Link" />
    <axis
      xyz="0 0 1" />
  </joint>
  <link
    name="Right_1_1_Link">
    <inertial>
      <origin
        xyz="0.0018576 -0.0017673 -0.00013841"
        rpy="0 0 0" />
      <mass
        value="0.0648" />
      <inertia
        ixx="0.001983"
        ixy="1.823E-08"
        ixz="1.4278E-09"
        iyy="0.001983"
        iyz="-1.3583E-09"
        izz="0.002841" />
    </inertial>
    <visual>
      <origin
        xyz="0 0 0"
        rpy="0 0 0" />
      <geometry>
        <mesh
          filename="package://xr1urdf/meshes/Right_1_1_Link.STL" />
      </geometry>
      <material
        name="">
        <color
          rgba="0.79216 0.81961 0.93333 1" />
      </material>
    </visual>
    <collision>
      <origin
        xyz="0 0 0"
        rpy="0 0 0" />
      <geometry>
        <mesh
          filename="package://xr1urdf/meshes/Right_1_1_Link.STL" />
      </geometry>
    </collision>
  </link>
  <joint
    name="Right_1_1_Joint"
    type="continuous">
    <origin
      xyz="0.0463873711048263 -0.0227514450525238 0.0270481463075324"
      rpy="-2.82585434013322 -0.967918454119807 -1.5707963267949" />
    <parent
      link="Right_Hand_Link" />
    <child
      link="Right_1_1_Link" />
    <axis
      xyz="0 0 -1" />
  </joint>
  <link
    name="Right_1_2_Link">
    <inertial>
      <origin
        xyz="0.0037429 -0.0026223 -1.4605E-05"
        rpy="0 0 0" />
      <mass
        value="0.01812" />
      <inertia
        ixx="0.0001332"
        ixy="2.3738E-08"
        ixz="1.3228E-10"
        iyy="0.0001972"
        iyz="-9.2673E-11"
        izz="0.0001339" />
    </inertial>
    <visual>
      <origin
        xyz="0 0 0"
        rpy="0 0 0" />
      <geometry>
        <mesh
          filename="package://xr1urdf/meshes/Right_1_2_Link.STL" />
      </geometry>
      <material
        name="">
        <color
          rgba="0.79216 0.81961 0.93333 1" />
      </material>
    </visual>
    <collision>
      <origin
        xyz="0 0 0"
        rpy="0 0 0" />
      <geometry>
        <mesh
          filename="package://xr1urdf/meshes/Right_1_2_Link.STL" />
      </geometry>
    </collision>
  </link>
  <joint
    name="Right_1_2_Joint"
    type="continuous">
    <origin
      xyz="0.0124478206926872 -0.0115460575511548 0"
      rpy="-7.75457443313983E-07 -3.23667641410902E-07 1.05731325888986E-07" />
    <parent
      link="Right_1_1_Link" />
    <child
      link="Right_1_2_Link" />
    <axis
      xyz="0 0 -1" />
  </joint>
  <link
    name="Right_2_1_Link">
    <inertial>
      <origin
        xyz="-6.0375E-05 -0.004442 -8.9343E-05"
        rpy="0 0 0" />
      <mass
        value="0.05105" />
      <inertia
        ixx="0.0017"
        ixy="-1.0587E-09"
        ixz="-2.1295E-11"
        iyy="0.0017"
        iyz="-1.5667E-09"
        izz="0.002498" />
    </inertial>
    <visual>
      <origin
        xyz="0 0 0"
        rpy="0 0 0" />
      <geometry>
        <mesh
          filename="package://xr1urdf/meshes/Right_2_1_Link.STL" />
      </geometry>
      <material
        name="">
        <color
          rgba="0.79216 0.81961 0.93333 1" />
      </material>
    </visual>
    <collision>
      <origin
        xyz="0 0 0"
        rpy="0 0 0" />
      <geometry>
        <mesh
          filename="package://xr1urdf/meshes/Right_2_1_Link.STL" />
      </geometry>
    </collision>
  </link>
  <joint
    name="Right_2_1_Joint"
    type="continuous">
    <origin
      xyz="0.07421799091684 -0.0211750333284337 0.000927044928134585"
      rpy="1.5707963267949 -1.5707963267949 0" />
    <parent
      link="Right_Hand_Link" />
    <child
      link="Right_2_1_Link" />
    <axis
      xyz="0 0 1" />
  </joint>
  <link
    name="Right_2_2_Link">
    <inertial>
      <origin
        xyz="-0.0004717 -0.0059497 -0.00010746"
        rpy="0 0 0" />
      <mass
        value="0.01234" />
      <inertia
        ixx="0.0008295"
        ixy="-5.6493E-09"
        ixz="-1.0204E-10"
        iyy="0.0008295"
        iyz="-1.287E-09"
        izz="0.001208" />
    </inertial>
    <visual>
      <origin
        xyz="0 0 0"
        rpy="0 0 0" />
      <geometry>
        <mesh
          filename="package://xr1urdf/meshes/Right_2_2_Link.STL" />
      </geometry>
      <material
        name="">
        <color
          rgba="0.79216 0.81961 0.93333 1" />
      </material>
    </visual>
    <collision>
      <origin
        xyz="0 0 0"
        rpy="0 0 0" />
      <geometry>
        <mesh
          filename="package://xr1urdf/meshes/Right_2_2_Link.STL" />
      </geometry>
    </collision>
  </link>
  <joint
    name="Right_2_2_Joint"
    type="continuous">
    <origin
      xyz="0 -0.0180361175537143 0"
      rpy="0 0 0" />
    <parent
      link="Right_2_1_Link" />
    <child
      link="Right_2_2_Link" />
    <axis
      xyz="0 0 1" />
  </joint>
  <link
    name="Right_2_3_Link">
    <inertial>
      <origin
        xyz="-0.00082688 -0.0043373 -0.00010313"
        rpy="0 0 0" />
      <mass
        value="0.006588" />
      <inertia
        ixx="0.0004257"
        ixy="-7.3617E-09"
        ixz="-1.7504E-10"
        iyy="0.0006273"
        iyz="-9.1816E-10"
        izz="0.0004238" />
    </inertial>
    <visual>
      <origin
        xyz="0 0 0"
        rpy="0 0 0" />
      <geometry>
        <mesh
          filename="package://xr1urdf/meshes/Right_2_3_Link.STL" />
      </geometry>
      <material
        name="">
        <color
          rgba="0.79216 0.81961 0.93333 1" />
      </material>
    </visual>
    <collision>
      <origin
        xyz="0 0 0"
        rpy="0 0 0" />
      <geometry>
        <mesh
          filename="package://xr1urdf/meshes/Right_2_3_Link.STL" />
      </geometry>
    </collision>
  </link>
  <joint
    name="Right_2_3_Joint"
    type="continuous">
    <origin
      xyz="0 -0.0220256805419884 0"
      rpy="0 0 0" />
    <parent
      link="Right_2_2_Link" />
    <child
      link="Right_2_3_Link" />
    <axis
      xyz="0 0 1" />
  </joint>
  <link
    name="Right_3_1_Link">
    <inertial>
      <origin
        xyz="-0.00013722 -0.0054219 1.8135E-05"
        rpy="0 0 0" />
      <mass
        value="0.05197" />
      <inertia
        ixx="0.001723"
        ixy="-3.2178E-09"
        ixz="1.0762E-11"
        iyy="0.001723"
        iyz="4.2522E-10"
        izz="0.002543" />
    </inertial>
    <visual>
      <origin
        xyz="0 0 0"
        rpy="0 0 0" />
      <geometry>
        <mesh
          filename="package://xr1urdf/meshes/Right_3_1_Link.STL" />
      </geometry>
      <material
        name="">
        <color
          rgba="0.79216 0.81961 0.93333 1" />
      </material>
    </visual>
    <collision>
      <origin
        xyz="0 0 0"
        rpy="0 0 0" />
      <geometry>
        <mesh
          filename="package://xr1urdf/meshes/Right_3_1_Link.STL" />
      </geometry>
    </collision>
  </link>
  <joint
    name="Right_3_1_Joint"
    type="continuous">
    <origin
      xyz="0.0764901009021922 -0.00561489331473879 -0.00175480169051168"
      rpy="1.5707963267949 -1.5707963267949 0" />
    <parent
      link="Right_Hand_Link" />
    <child
      link="Right_3_1_Link" />
    <axis
      xyz="0 0 1" />
  </joint>
  <link
    name="Right_3_2_Link">
    <inertial>
      <origin
        xyz="-0.00056785 -0.0061714 1.9798E-05"
        rpy="0 0 0" />
      <mass
        value="0.01299" />
      <inertia
        ixx="0.0008611"
        ixy="-7.0543E-09"
        ixz="2.2631E-11"
        iyy="0.0008611"
        iyz="2.4596E-10"
        izz="0.001271" />
    </inertial>
    <visual>
      <origin
        xyz="0 0 0"
        rpy="0 0 0" />
      <geometry>
        <mesh
          filename="package://xr1urdf/meshes/Right_3_2_Link.STL" />
      </geometry>
      <material
        name="">
        <color
          rgba="0.79216 0.81961 0.93333 1" />
      </material>
    </visual>
    <collision>
      <origin
        xyz="0 0 0"
        rpy="0 0 0" />
      <geometry>
        <mesh
          filename="package://xr1urdf/meshes/Right_3_2_Link.STL" />
      </geometry>
    </collision>
  </link>
  <joint
    name="Right_3_2_Joint"
    type="continuous">
    <origin
      xyz="0 -0.0205278778076158 0"
      rpy="0 0 0" />
    <parent
      link="Right_3_1_Link" />
    <child
      link="Right_3_2_Link" />
    <axis
      xyz="0 0 1" />
  </joint>
  <link
    name="Right_3_3_Link">
    <inertial>
      <origin
        xyz="-0.00092117 -0.0045548 2.1672E-05"
        rpy="0 0 0" />
      <mass
        value="0.006329" />
      <inertia
        ixx="0.0004128"
        ixy="-8.6123E-09"
        ixz="4.0979E-11"
        iyy="0.0006019"
        iyz="2.0262E-10"
        izz="0.0004111" />
    </inertial>
    <visual>
      <origin
        xyz="0 0 0"
        rpy="0 0 0" />
      <geometry>
        <mesh
          filename="package://xr1urdf/meshes/Right_3_3_Link.STL" />
      </geometry>
      <material
        name="">
        <color
          rgba="0.79216 0.81961 0.93333 1" />
      </material>
    </visual>
    <collision>
      <origin
        xyz="0 0 0"
        rpy="0 0 0" />
      <geometry>
        <mesh
          filename="package://xr1urdf/meshes/Right_3_3_Link.STL" />
      </geometry>
    </collision>
  </link>
  <joint
    name="Right_3_3_Joint"
    type="continuous">
    <origin
      xyz="0 -0.0220256042480499 0"
      rpy="0 0 0" />
    <parent
      link="Right_3_2_Link" />
    <child
      link="Right_3_3_Link" />
    <axis
      xyz="0 0 1" />
  </joint>
  <link
    name="Right_4_1_Link">
    <inertial>
      <origin
        xyz="-8.9301E-05 -0.0047682 6.5533E-05"
        rpy="0 0 0" />
      <mass
        value="0.04255" />
      <inertia
        ixx="0.001576"
        ixy="-1.6758E-09"
        ixz="2.3031E-11"
        iyy="0.001576"
        iyz="1.2297E-09"
        izz="0.002552" />
    </inertial>
    <visual>
      <origin
        xyz="0 0 0"
        rpy="0 0 0" />
      <geometry>
        <mesh
          filename="package://xr1urdf/meshes/Right_4_1_Link.STL" />
      </geometry>
      <material
        name="">
        <color
          rgba="0.79216 0.81961 0.93333 1" />
      </material>
    </visual>
    <collision>
      <origin
        xyz="0 0 0"
        rpy="0 0 0" />
      <geometry>
        <mesh
          filename="package://xr1urdf/meshes/Right_4_1_Link.STL" />
      </geometry>
    </collision>
  </link>
  <joint
    name="Right_4_1_Joint"
    type="continuous">
    <origin
      xyz="0.073528980296718 0.00968487170586999 -0.000963213860921908"
      rpy="1.5707963267949 -1.5707963267949 0" />
    <parent
      link="Right_Hand_Link" />
    <child
      link="Right_4_1_Link" />
    <axis
      xyz="0 0 1" />
  </joint>
  <link
    name="Right_4_2_Link">
    <inertial>
      <origin
        xyz="-0.00050562 -0.0052511 7.4747E-05"
        rpy="0 0 0" />
      <mass
        value="0.01146" />
      <inertia
        ixx="0.0007867"
        ixy="-5.3445E-09"
        ixz="7.6075E-11"
        iyy="0.0007867"
        iyz="7.9006E-10"
        izz="0.001122" />
    </inertial>
    <visual>
      <origin
        xyz="0 0 0"
        rpy="0 0 0" />
      <geometry>
        <mesh
          filename="package://xr1urdf/meshes/Right_4_2_Link.STL" />
      </geometry>
      <material
        name="">
        <color
          rgba="0.79216 0.81961 0.93333 1" />
      </material>
    </visual>
    <collision>
      <origin
        xyz="0 0 0"
        rpy="0 0 0" />
      <geometry>
        <mesh
          filename="package://xr1urdf/meshes/Right_4_2_Link.STL" />
      </geometry>
    </collision>
  </link>
  <joint
    name="Right_4_2_Joint"
    type="continuous">
    <origin
      xyz="0 -0.0203540802001998 0"
      rpy="0 0 0" />
    <parent
      link="Right_4_1_Link" />
    <child
      link="Right_4_2_Link" />
    <axis
      xyz="0 0 1" />
  </joint>
  <link
    name="Right_4_3_Link">
    <inertial>
      <origin
        xyz="-0.00086014 -0.0036522 7.5558E-05"
        rpy="0 0 0" />
      <mass
        value="0.00662" />
      <inertia
        ixx="0.0004272"
        ixy="-6.4482E-09"
        ixz="1.334E-10"
        iyy="0.0006304"
        iyz="5.6641E-10"
        izz="0.0004254" />
    </inertial>
    <visual>
      <origin
        xyz="0 0 0"
        rpy="0 0 0" />
      <geometry>
        <mesh
          filename="package://xr1urdf/meshes/Right_4_3_Link.STL" />
      </geometry>
      <material
        name="">
        <color
          rgba="0.79216 0.81961 0.93333 1" />
      </material>
    </visual>
    <collision>
      <origin
        xyz="0 0 0"
        rpy="0 0 0" />
      <geometry>
        <mesh
          filename="package://xr1urdf/meshes/Right_4_3_Link.STL" />
      </geometry>
    </collision>
  </link>
  <joint
    name="Right_4_3_Joint"
    type="continuous">
    <origin
      xyz="0 -0.0220256805419927 0"
      rpy="0 0 0" />
    <parent
      link="Right_4_2_Link" />
    <child
      link="Right_4_3_Link" />
    <axis
      xyz="0 0 1" />
  </joint>
  <link
    name="Right_5_1_Link">
    <inertial>
      <origin
        xyz="0.00046586 -0.0042115 8.9979E-05"
        rpy="0 0 0" />
      <mass
        value="0.0465" />
      <inertia
        ixx="0.001585"
        ixy="6.979E-09"
        ixz="-1.4911E-10"
        iyy="0.001585"
        iyz="1.3479E-09"
        izz="0.002229" />
    </inertial>
    <visual>
      <origin
        xyz="0 0 0"
        rpy="0 0 0" />
      <geometry>
        <mesh
          filename="package://xr1urdf/meshes/Right_5_1_Link.STL" />
      </geometry>
      <material
        name="">
        <color
          rgba="0.79216 0.81961 0.93333 1" />
      </material>
    </visual>
    <collision>
      <origin
        xyz="0 0 0"
        rpy="0 0 0" />
      <geometry>
        <mesh
          filename="package://xr1urdf/meshes/Right_5_1_Link.STL" />
      </geometry>
    </collision>
  </link>
  <joint
    name="Right_5_1_Joint"
    type="continuous">
    <origin
      xyz="0.0702912178455524 0.0248770065332455 -0.00038803380721289"
      rpy="1.5707963267949 -1.5707963267949 0" />
    <parent
      link="Right_Hand_Link" />
    <child
      link="Right_5_1_Link" />
    <axis
      xyz="0 0 1" />
  </joint>
  <link
    name="Right_5_2_Link">
    <inertial>
      <origin
        xyz="0.00012673 -0.0053846 9.956E-05"
        rpy="0 0 0" />
      <mass
        value="0.01531" />
      <inertia
        ixx="0.0006332"
        ixy="1.3738E-09"
        ixz="-2.5402E-11"
        iyy="0.0006332"
        iyz="1.0791E-09"
        izz="0.001025" />
    </inertial>
    <visual>
      <origin
        xyz="0 0 0"
        rpy="0 0 0" />
      <geometry>
        <mesh
          filename="package://xr1urdf/meshes/Right_5_2_Link.STL" />
      </geometry>
      <material
        name="">
        <color
          rgba="0.79216 0.81961 0.93333 1" />
      </material>
    </visual>
    <collision>
      <origin
        xyz="0 0 0"
        rpy="0 0 0" />
      <geometry>
        <mesh
          filename="package://xr1urdf/meshes/Right_5_2_Link.STL" />
      </geometry>
    </collision>
  </link>
  <joint
    name="Right_5_2_Joint"
    type="continuous">
    <origin
      xyz="0 -0.0182607269287086 0"
      rpy="0 0 0" />
    <parent
      link="Right_5_1_Link" />
    <child
      link="Right_5_2_Link" />
    <axis
      xyz="0 0 1" />
  </joint>
  <link
    name="Right_5_3_Link">
    <inertial>
      <origin
        xyz="-0.00024002 -0.0037831 9.9892E-05"
        rpy="0 0 0" />
      <mass
        value="0.007844" />
      <inertia
        ixx="0.0003173"
        ixy="-1.8637E-09"
        ixz="4.9209E-11"
        iyy="0.0005154"
        iyz="7.7571E-10"
        izz="0.0003161" />
    </inertial>
    <visual>
      <origin
        xyz="0 0 0"
        rpy="0 0 0" />
      <geometry>
        <mesh
          filename="package://xr1urdf/meshes/Right_5_3_Link.STL" />
      </geometry>
      <material
        name="">
        <color
          rgba="0.79216 0.81961 0.93333 1" />
      </material>
    </visual>
    <collision>
      <origin
        xyz="0 0 0"
        rpy="0 0 0" />
      <geometry>
        <mesh
          filename="package://xr1urdf/meshes/Right_5_3_Link.STL" />
      </geometry>
    </collision>
  </link>
  <joint
    name="Right_5_3_Joint"
    type="continuous">
    <origin
      xyz="0 -0.0220256805419934 0"
      rpy="0 0 0" />
    <parent
      link="Right_5_2_Link" />
    <child
      link="Right_5_3_Link" />
    <axis
      xyz="0 0 1" />
  </joint>
</robot>
